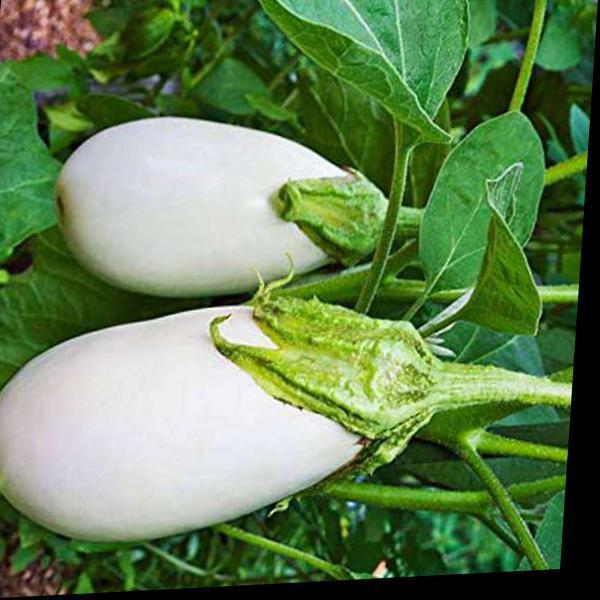eggplant: (0, 268, 510, 558), (54, 80, 460, 326)
